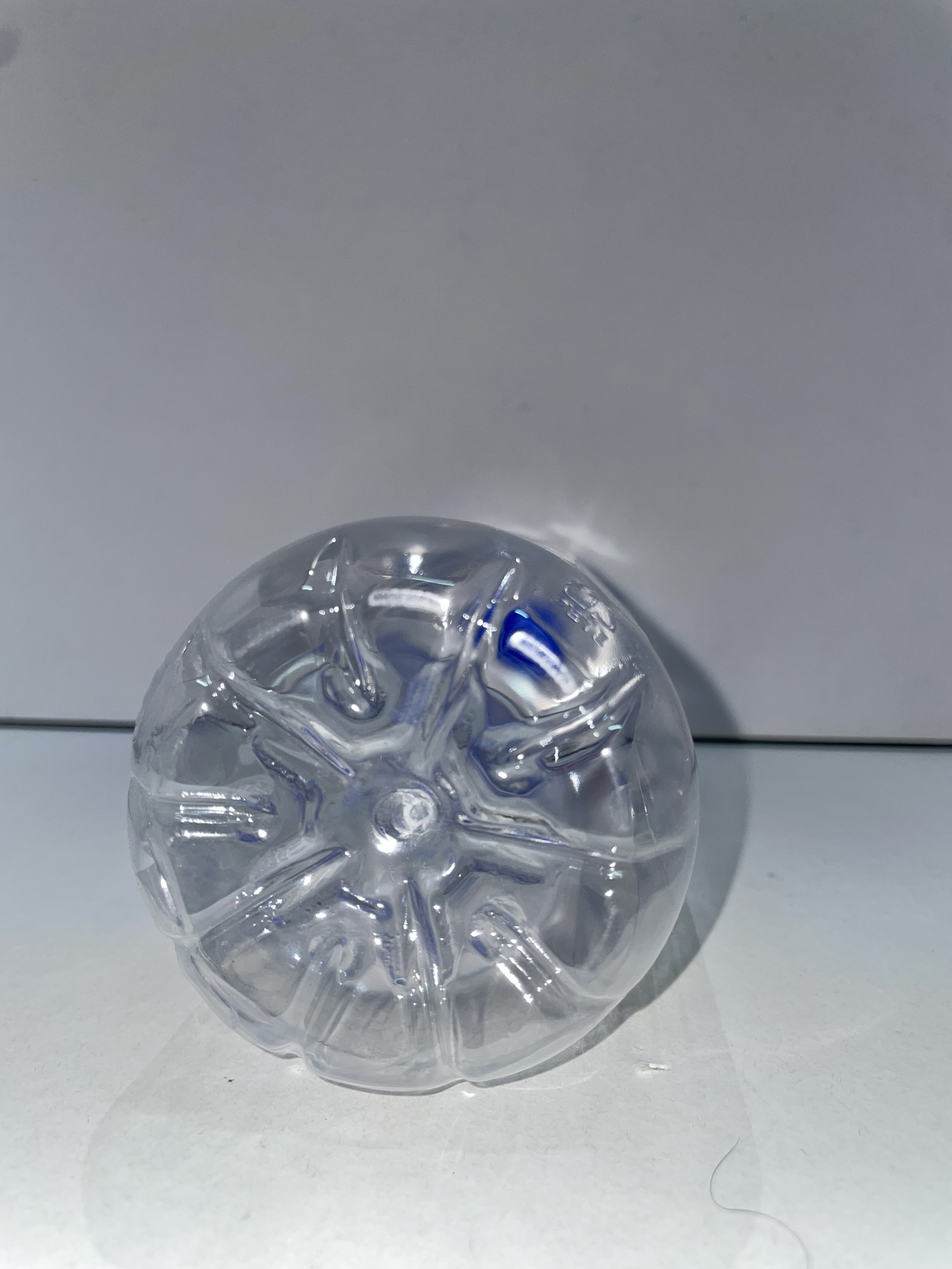wilkins pure 500ml: (128, 518, 698, 1092)
